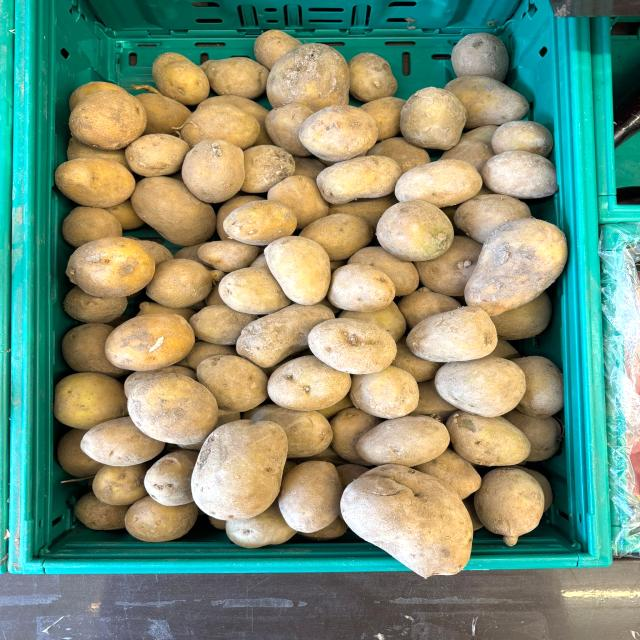potato: (331, 454, 484, 587), (179, 406, 310, 528), (458, 208, 582, 319), (51, 226, 166, 301), (94, 299, 200, 379), (260, 224, 342, 315), (170, 133, 258, 210)
